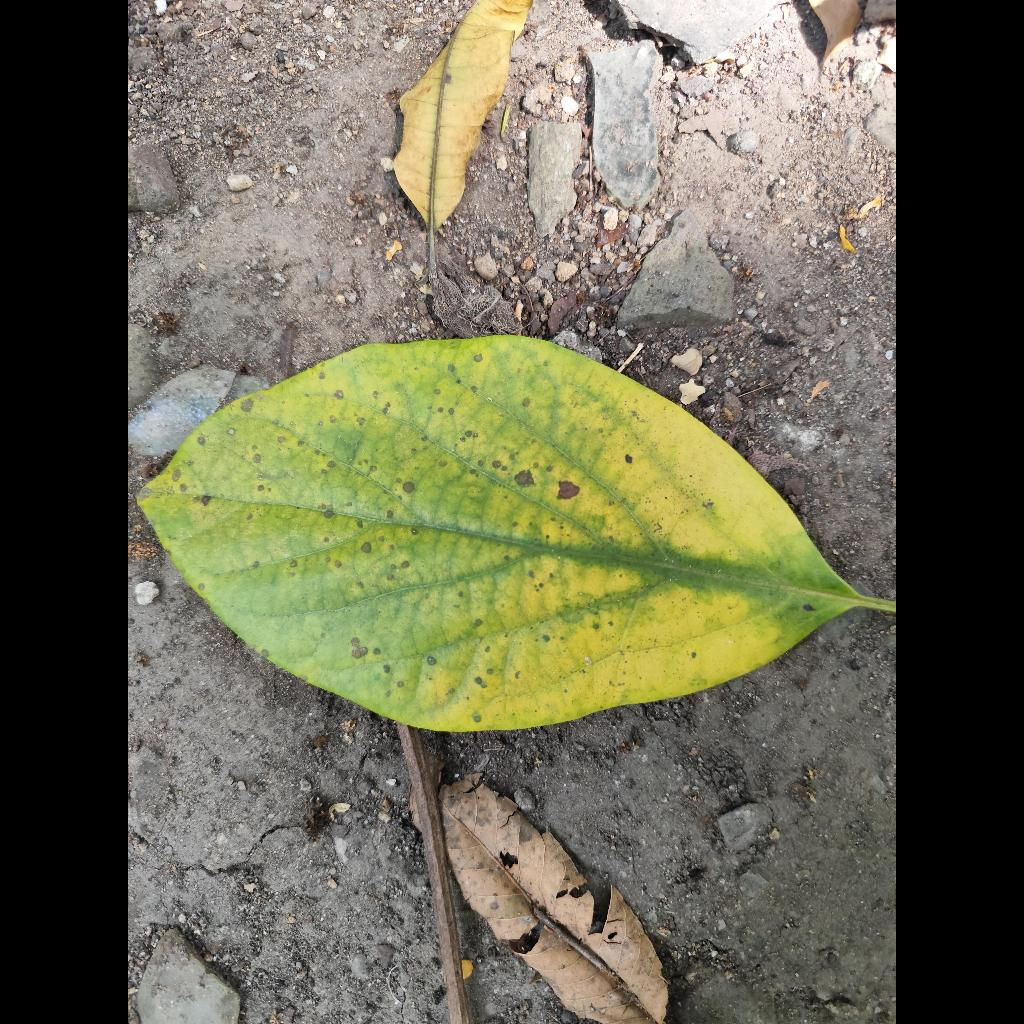nutrient_deficiency: (137, 337, 896, 731)
